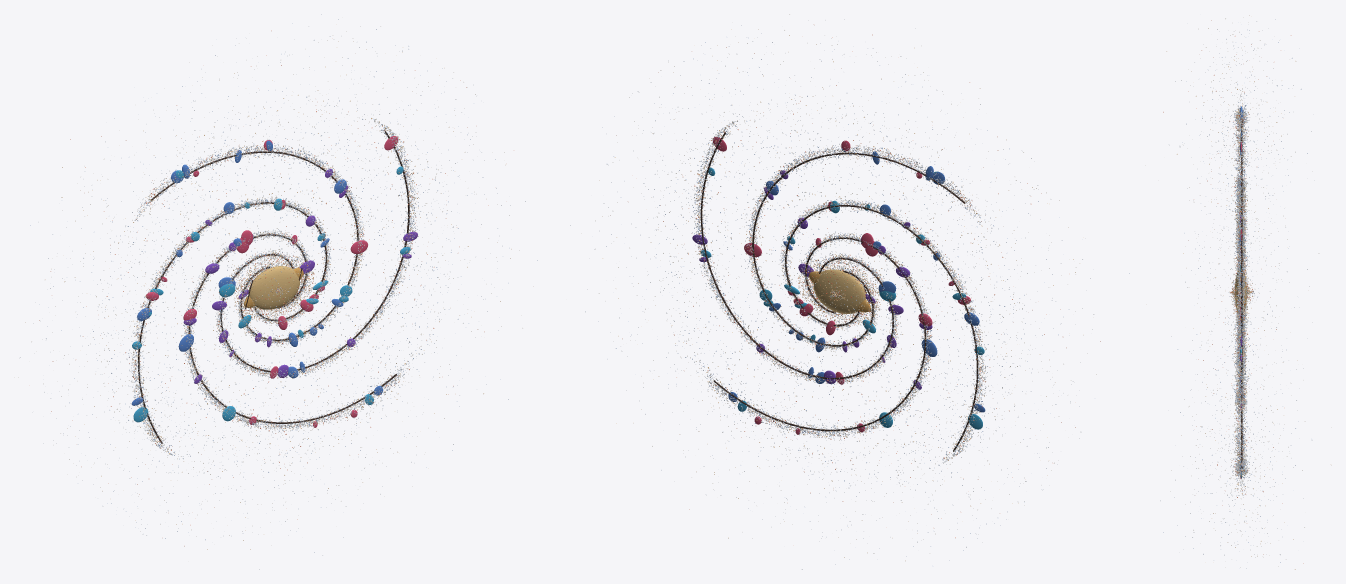
The model's file is milky_way_galaxy.glb.
3 renders of one model, left to right at view 1: azimuth 30°, elevation 25°; view 2: azimuth 150°, elevation 25°; view 3: azimuth 270°, elevation 25°, orthographic. The views are drawn at different scales.
Visible parts, largest first — view 1: Stars_Main_Disk, Spiral_Nebula_Gas_Clouds, Stars_Arm_Clusters, Dark_Dust_Lanes, Golden_Central_Bulge, Stars_Galactic_Halo, Stars_Central_Bulge; view 2: Stars_Main_Disk, Spiral_Nebula_Gas_Clouds, Stars_Arm_Clusters, Dark_Dust_Lanes, Golden_Central_Bulge, Stars_Galactic_Halo, Stars_Central_Bulge; view 3: Stars_Main_Disk, Stars_Arm_Clusters, Stars_Galactic_Halo, Dark_Dust_Lanes, Stars_Central_Bulge.
Boxes of the visible parts, x1,y1,x2,y2 form: Stars_Main_Disk: (93,95,456,479); Spiral_Nebula_Gas_Clouds: (131,136,417,427); Stars_Arm_Clusters: (129,119,418,459); Dark_Dust_Lanes: (138,131,409,443); Golden_Central_Bulge: (248,266,300,309); Stars_Galactic_Halo: (14,14,537,569); Stars_Central_Bulge: (234,254,314,321); Stars_Main_Disk: (656,93,1025,490); Spiral_Nebula_Gas_Clouds: (692,137,985,434); Stars_Arm_Clusters: (693,120,987,468); Dark_Dust_Lanes: (700,132,978,451); Golden_Central_Bulge: (813,269,866,313); Stars_Galactic_Halo: (570,14,1100,569); Stars_Central_Bulge: (798,258,880,325); Stars_Main_Disk: (1230,87,1252,498); Stars_Arm_Clusters: (1232,105,1249,478); Stars_Galactic_Halo: (1129,15,1331,569); Dark_Dust_Lanes: (1238,120,1242,468); Stars_Central_Bulge: (1228,263,1254,323).
Size of the model in its own units: 26.87 by 26.71 by 9.82.
